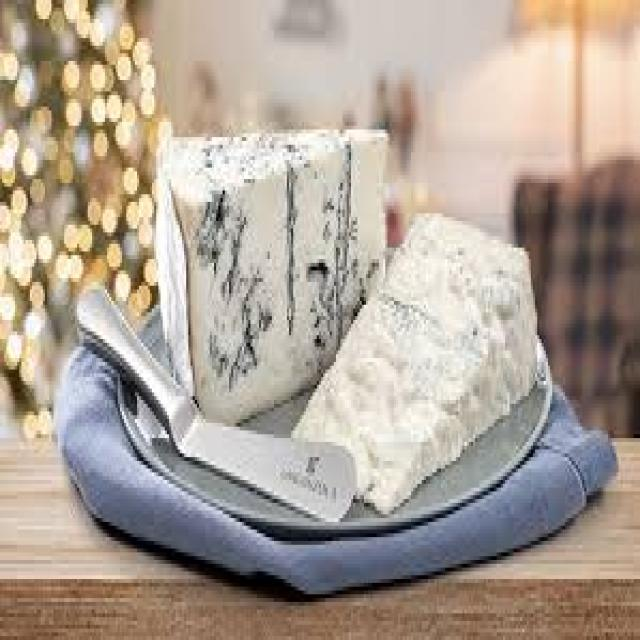Cheese: (291, 178, 544, 507), (142, 115, 388, 430)
